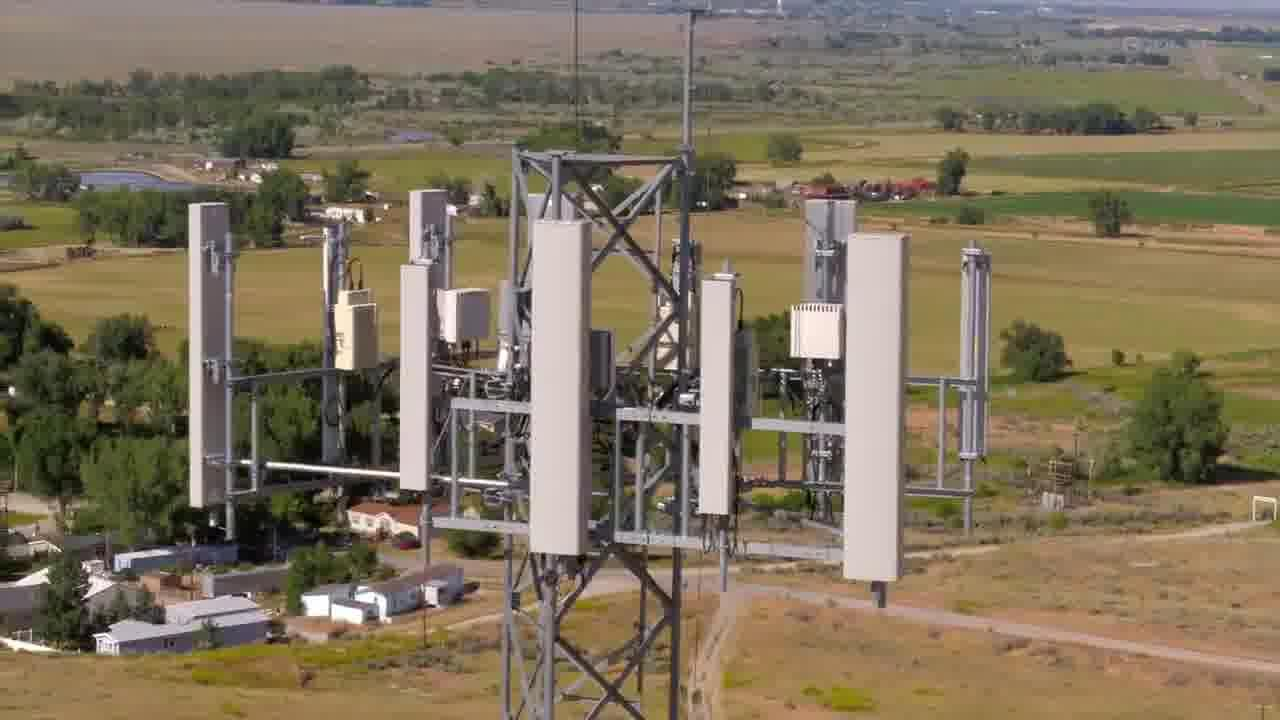antenna: (835, 223, 922, 581), (529, 201, 604, 573), (187, 180, 242, 502), (377, 259, 442, 500), (795, 187, 860, 423), (957, 199, 1009, 479), (397, 175, 466, 374), (694, 267, 749, 516)
